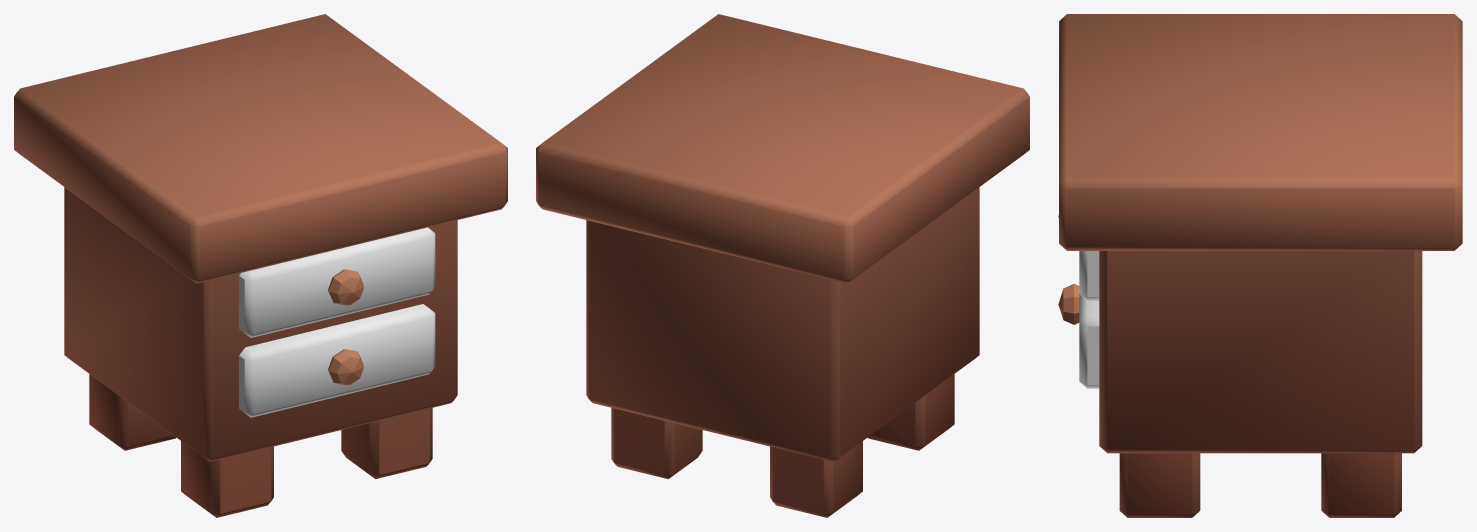
Rendered from cabinetSmall.glb.
The picture shows the model from 3 angles, left to right: view 1: azimuth 30°, elevation 25°; view 2: azimuth 150°, elevation 25°; view 3: azimuth 270°, elevation 25°; orthographic projection. The views are drawn at different scales.
Parts seen in each view (by area): view 1: cabinetSmall_base, cabinetSmall_colour; view 2: cabinetSmall_base; view 3: cabinetSmall_base, cabinetSmall_colour.
Part boxes in pixels (x1=…): cabinetSmall_base: x1=14, y1=14, x2=507, y2=517; cabinetSmall_colour: x1=239, y1=227, x2=435, y2=417; cabinetSmall_base: x1=536, y1=14, x2=1029, y2=517; cabinetSmall_base: x1=1058, y1=14, x2=1462, y2=517; cabinetSmall_colour: x1=1079, y1=251, x2=1099, y2=388.
Bounding box in the file's own units: 1 × 1 × 1.
Materials: 1 (1 with a texture image).
